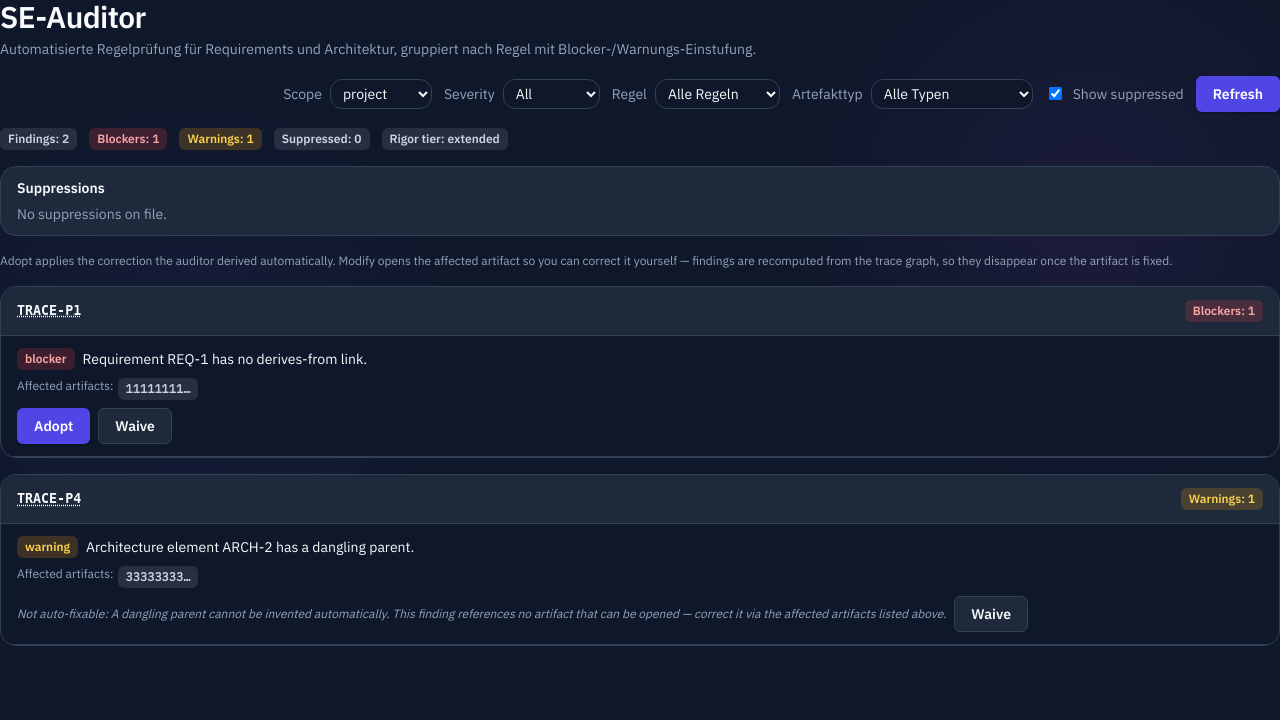
Scenario: AuditDashboard (SysEng 2.0 Phase 3) › removes the finding and shows a success toast when Adopt succeeds
Click the button with test id "audit-adopt-0" at point(54, 426), box [17,408,90,444]
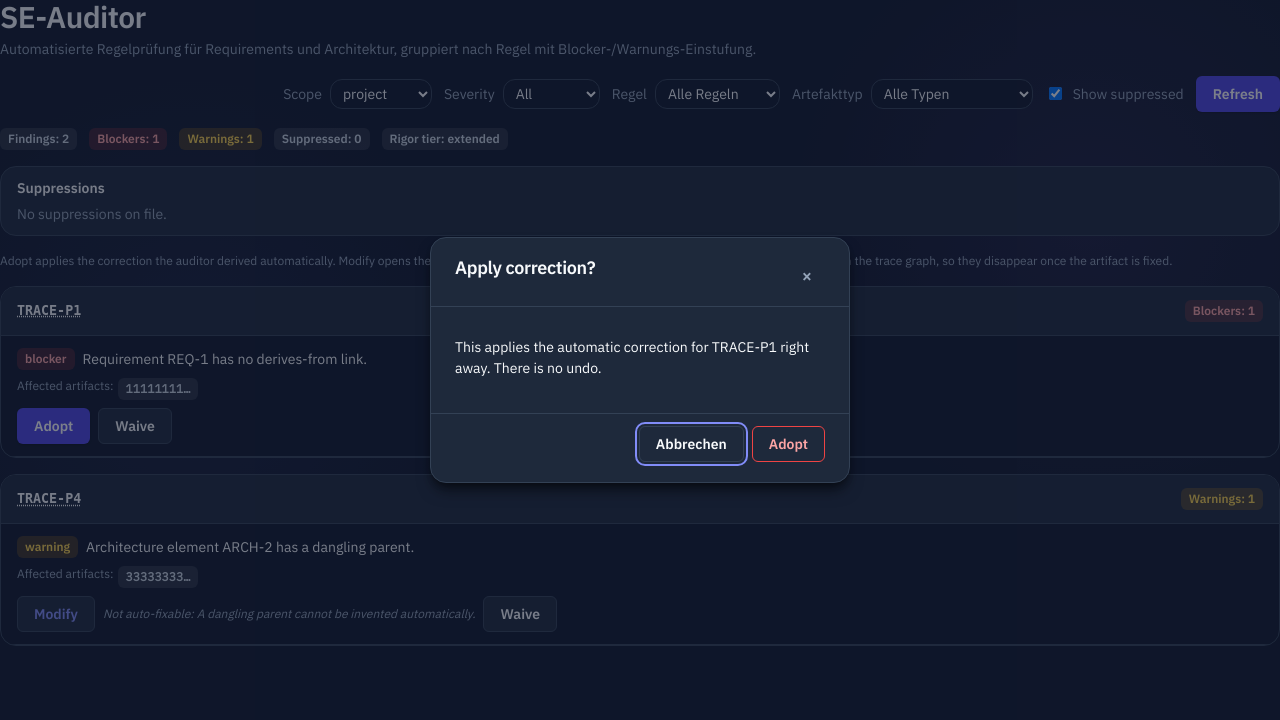
Note: UI-57: Adopt now interposes a confirmation before firing the mutation.
Click the button with test id "audit-adopt-confirm-confirm" at point(788, 444), box [752,426,825,462]
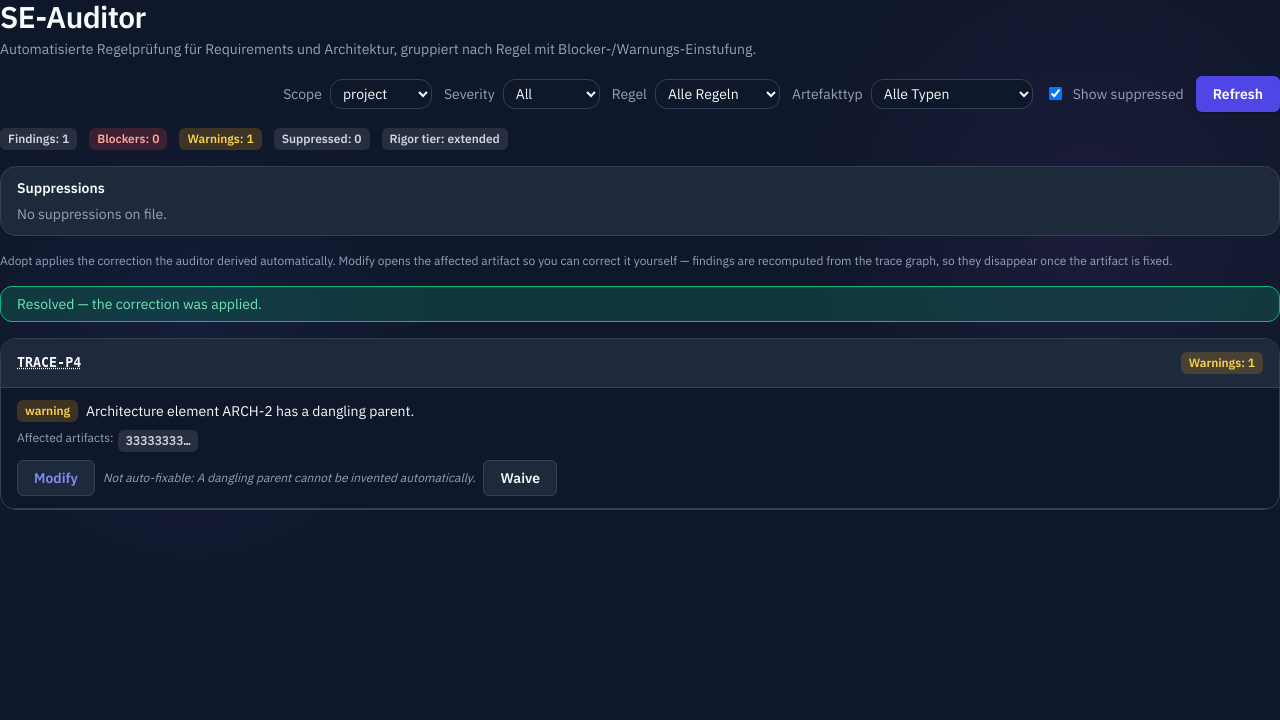
Expected: the list item with test id "audit-finding-0" is gone
Expected: the message "Resolved — the correction was applied." is shown, [0,286,1279,322]
